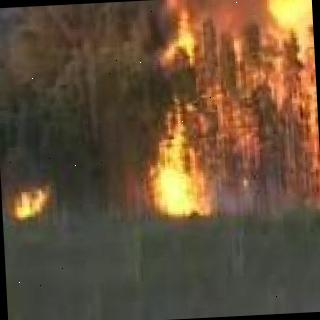fire: (132, 0, 320, 225), (12, 182, 50, 221)
